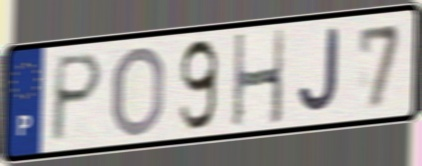7: (356, 20, 403, 111)
9: (177, 37, 221, 134)
H: (231, 26, 287, 131)
J: (295, 25, 342, 117)
O: (108, 43, 167, 140)
P: (48, 50, 107, 147)
